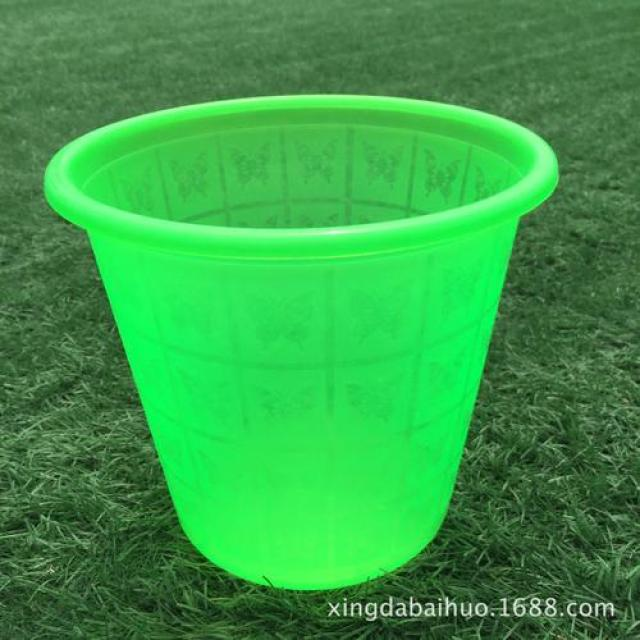dustbin: (38, 88, 560, 595)
